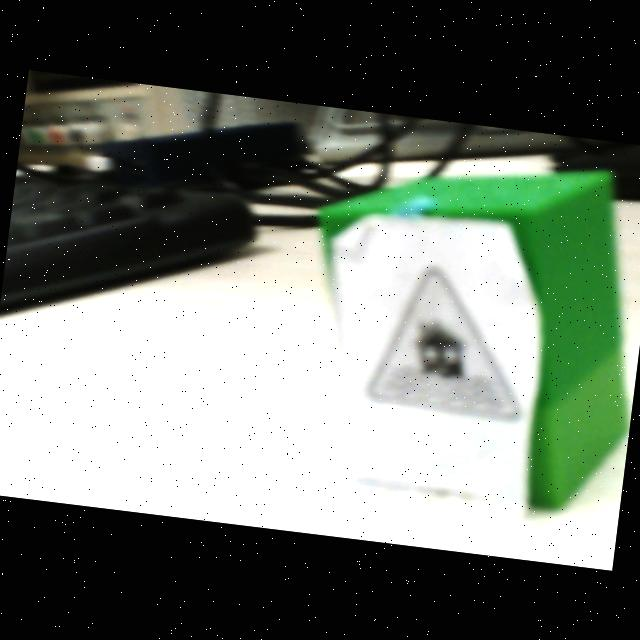Tsunami: (368, 268, 520, 421)
